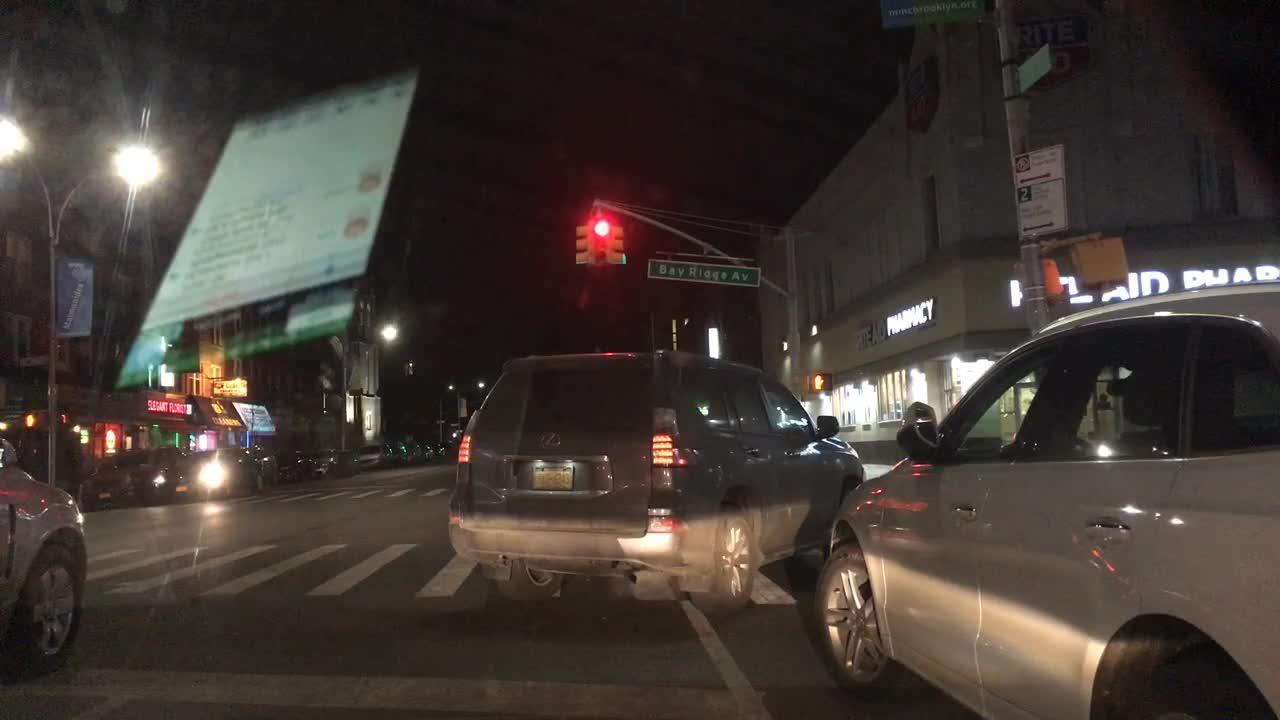lexus: (531, 426, 565, 457)
